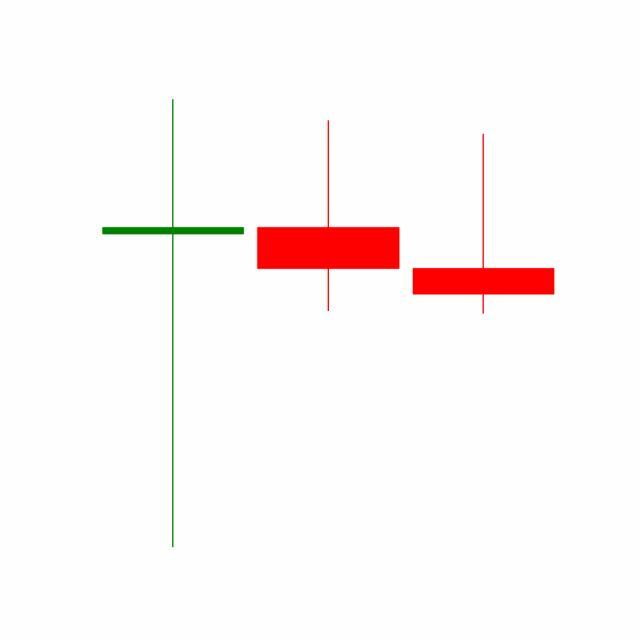Gravestone Doji: (406, 132, 562, 317)
